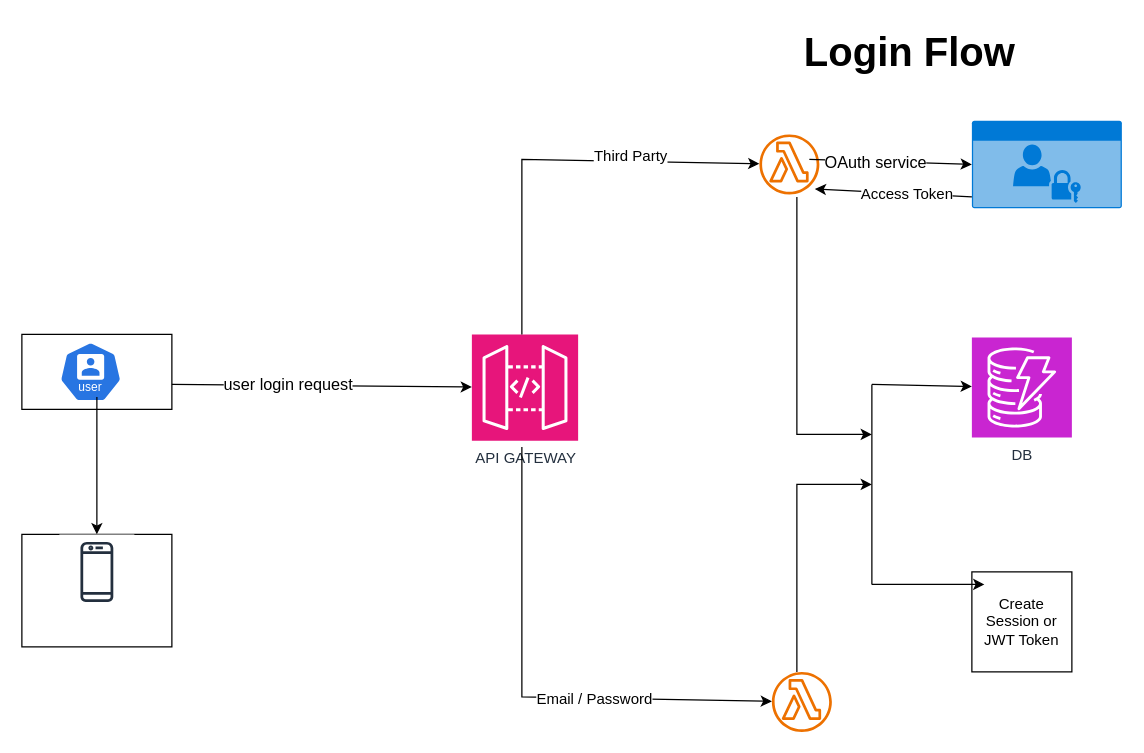
This 1144x753 diagram has some shape labels left out. The shapes that lost their labels are listed below. From the top down, each one's centre as x and y in pixels, then its label:
(x=1046, y=164): Login
(x=96, y=571): APP
